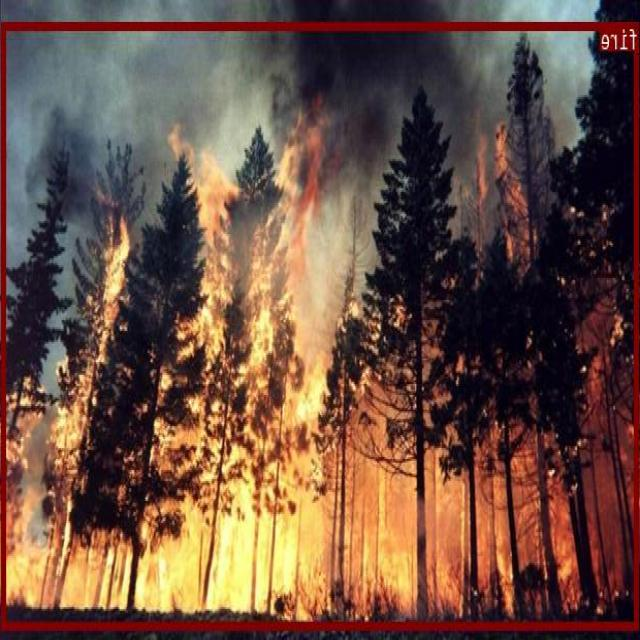fire: (2, 21, 640, 627)
